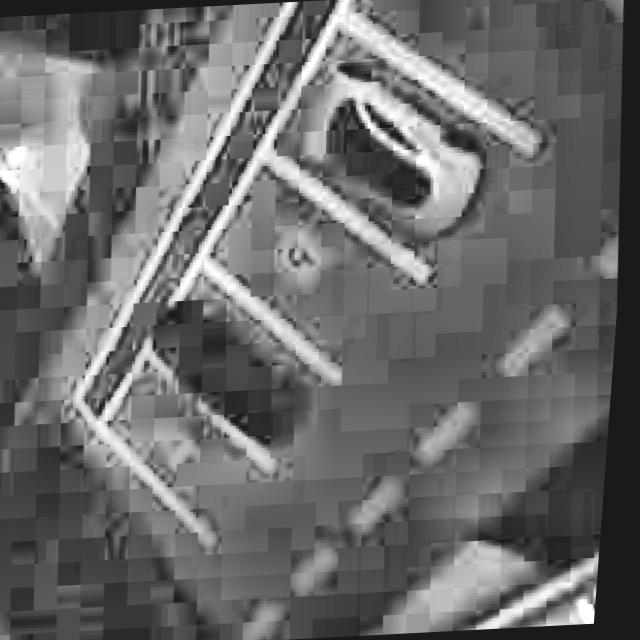car: (272, 50, 506, 249), (137, 284, 330, 456)
